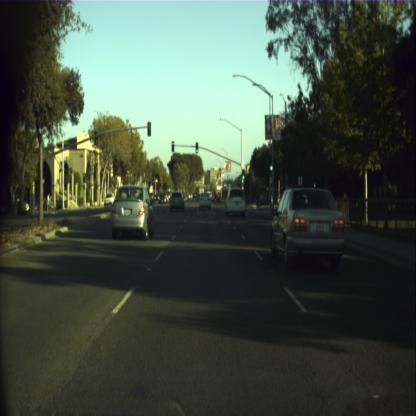Green: (269, 157, 272, 171), (195, 142, 198, 152), (242, 168, 245, 178)
RedLeft: (171, 140, 174, 150)
